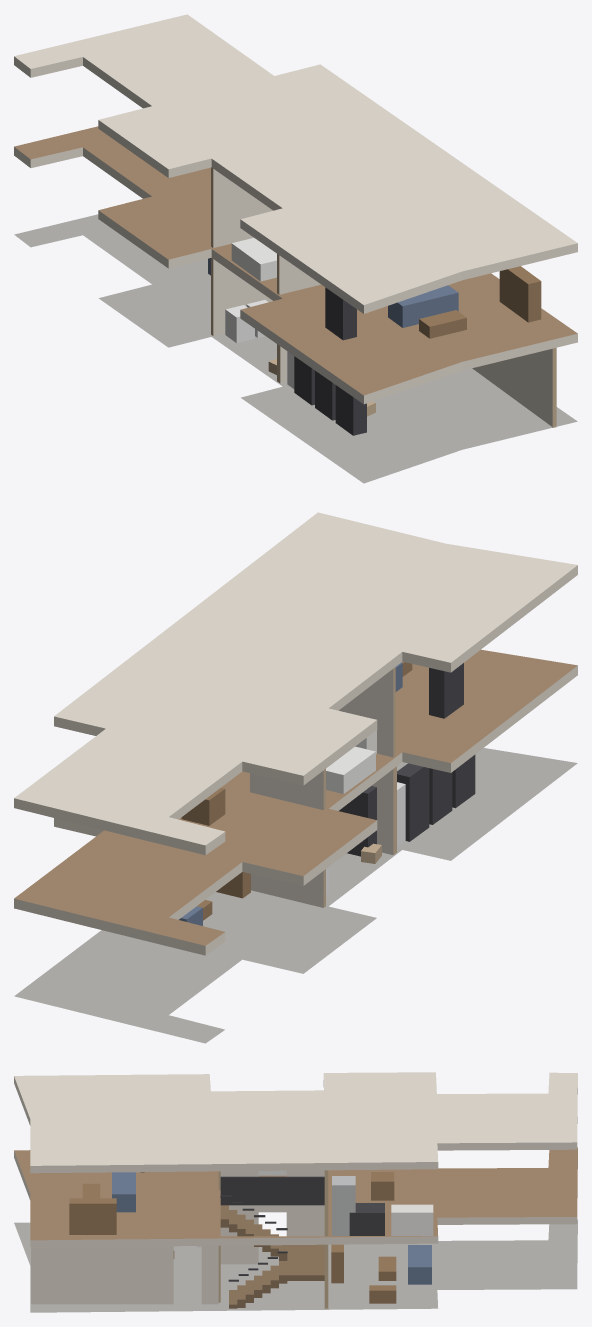
The model's file is interior.glb.
3 renders of one model, top to bottom at view 1: azimuth 30°, elevation 25°; view 2: azimuth 150°, elevation 25°; view 3: azimuth 270°, elevation 25°, orthographic. The views are drawn at different scales.
Parts seen in each view (by area): view 1: slabs, partitions, coarse-s1, coarse-s0; view 2: slabs, partitions, coarse-s0, coarse-s1; view 3: slabs, partitions, coarse-s1, stair, coarse-s0.
Boxes of the visible parts, bbox=[...] form: slabs: bbox=[14, 14, 577, 483]; partitions: bbox=[211, 167, 556, 427]; coarse-s1: bbox=[231, 238, 541, 340]; coarse-s0: bbox=[208, 258, 375, 435]; slabs: bbox=[14, 512, 577, 1043]; partitions: bbox=[250, 667, 396, 907]; coarse-s0: bbox=[179, 754, 475, 925]; coarse-s1: bbox=[181, 661, 463, 825]; slabs: bbox=[14, 1072, 577, 1312]; partitions: bbox=[31, 1170, 328, 1308]; coarse-s1: bbox=[69, 1170, 433, 1235]; stair: bbox=[220, 1176, 324, 1308]; coarse-s0: bbox=[173, 1244, 431, 1303].
Size of the model in its own units: 7.16 by 5.25 by 18.21.
